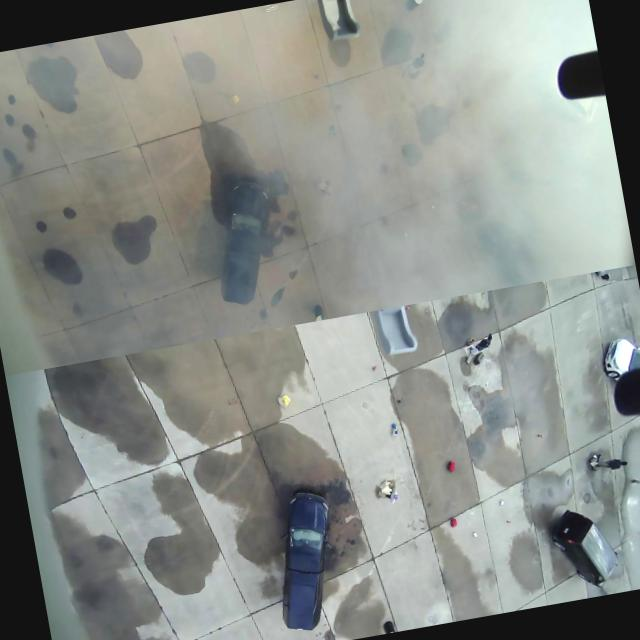car: (180, 147, 298, 320), (260, 479, 350, 636), (544, 490, 628, 602), (594, 325, 640, 395)
